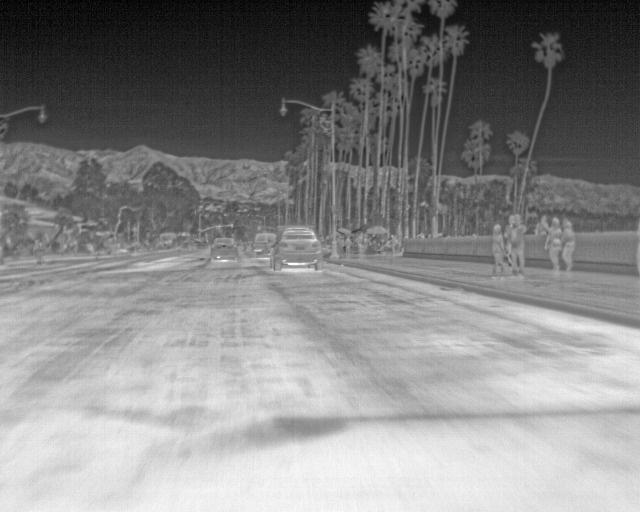bicycle: (272, 225, 322, 267), (210, 237, 240, 261), (252, 232, 276, 256), (156, 229, 178, 250)
empty: (545, 216, 565, 275), (508, 213, 526, 273), (490, 223, 510, 276), (560, 220, 575, 274), (533, 214, 551, 236)
